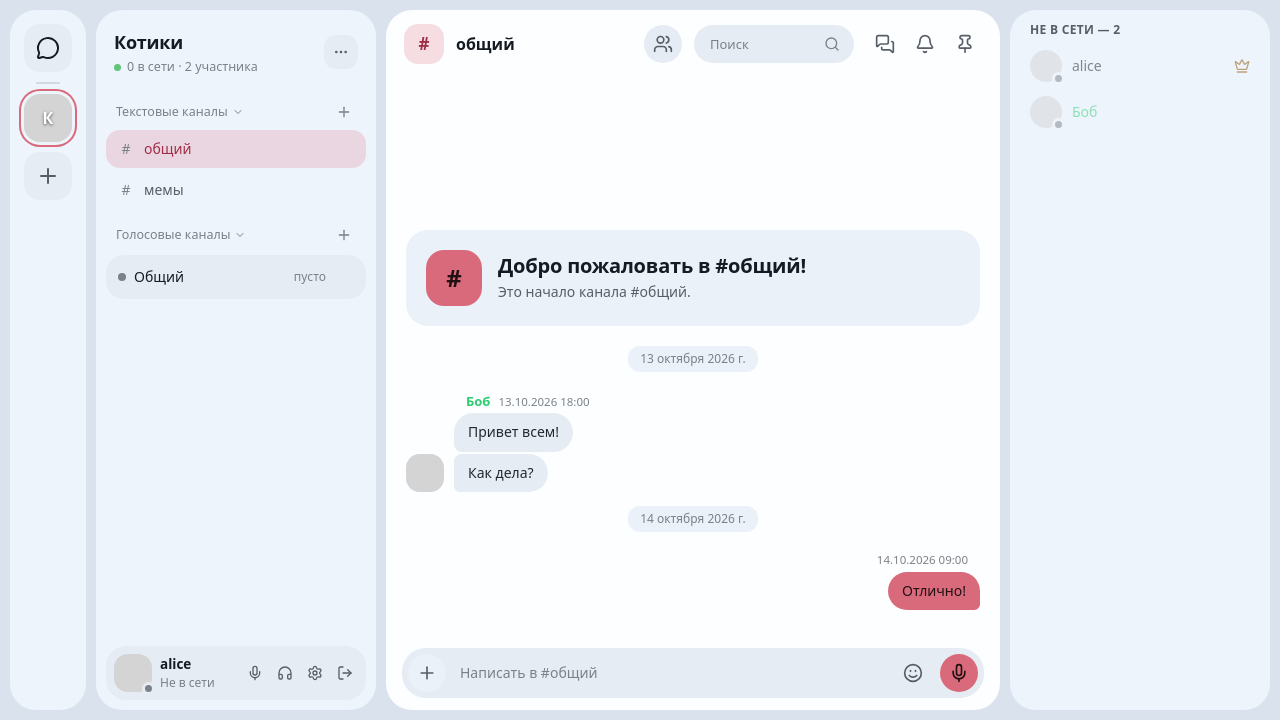
server settings window › opens over the chat from the server menu, keeping the channel
Click the button named "Меню сервера Котики". click: (341, 52)
box: [324, 35, 358, 69]
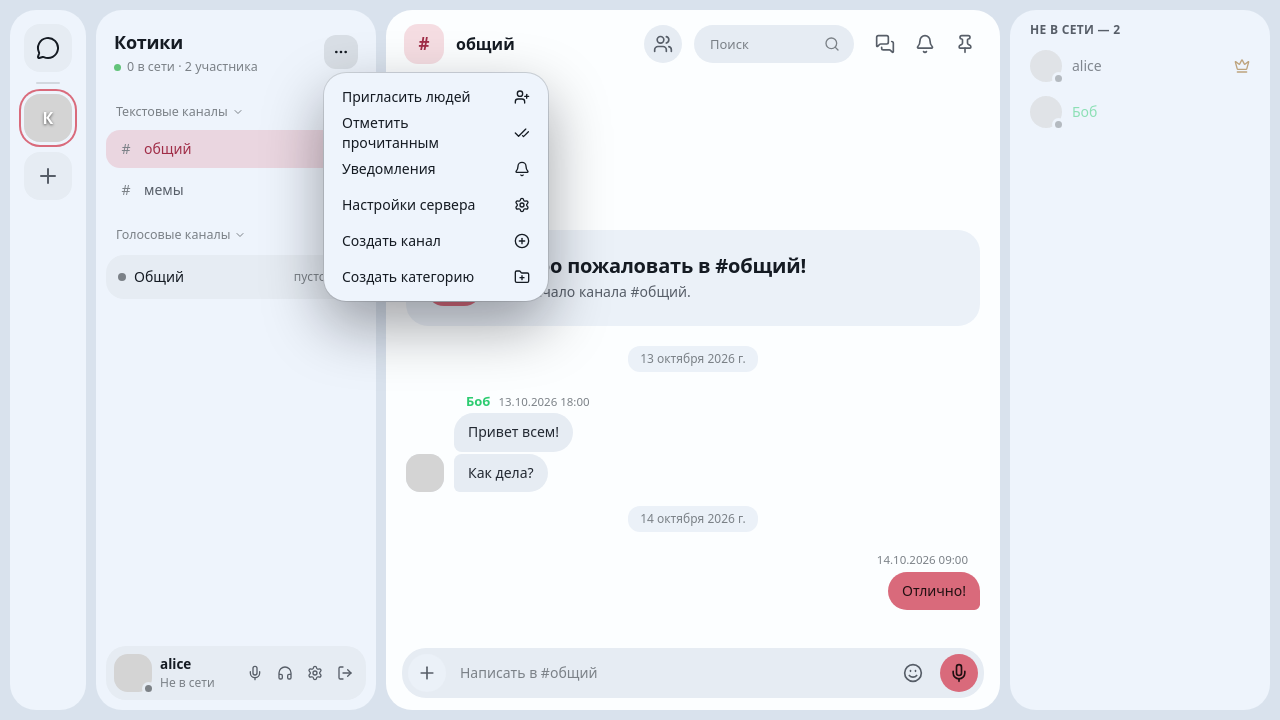
Click the menu item "Настройки сервера". click: (436, 204)
box: [342, 195, 530, 214]
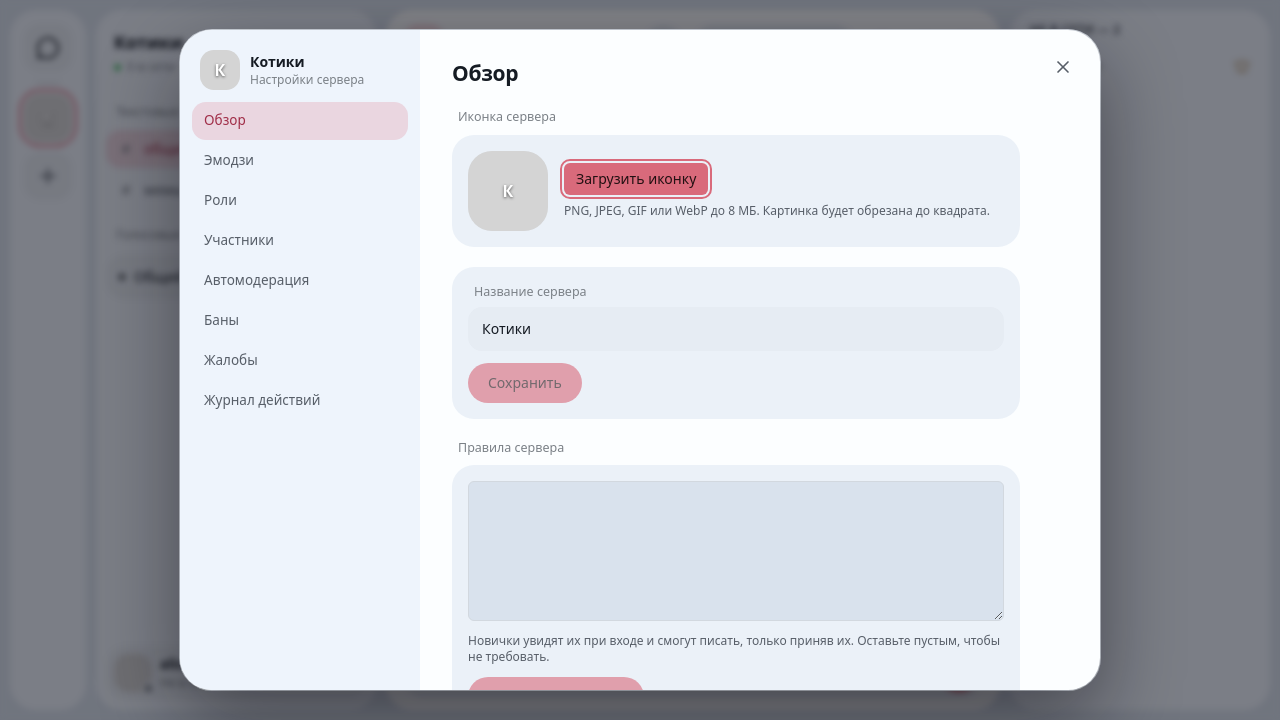
Expected: the list named "Сообщения в #общий" is shown, [386, 346, 1000, 628]
Now the heading "Обзор" is shown, box [452, 59, 518, 87]
Click the link "Роли". click: (220, 200)
box: [204, 191, 237, 209]
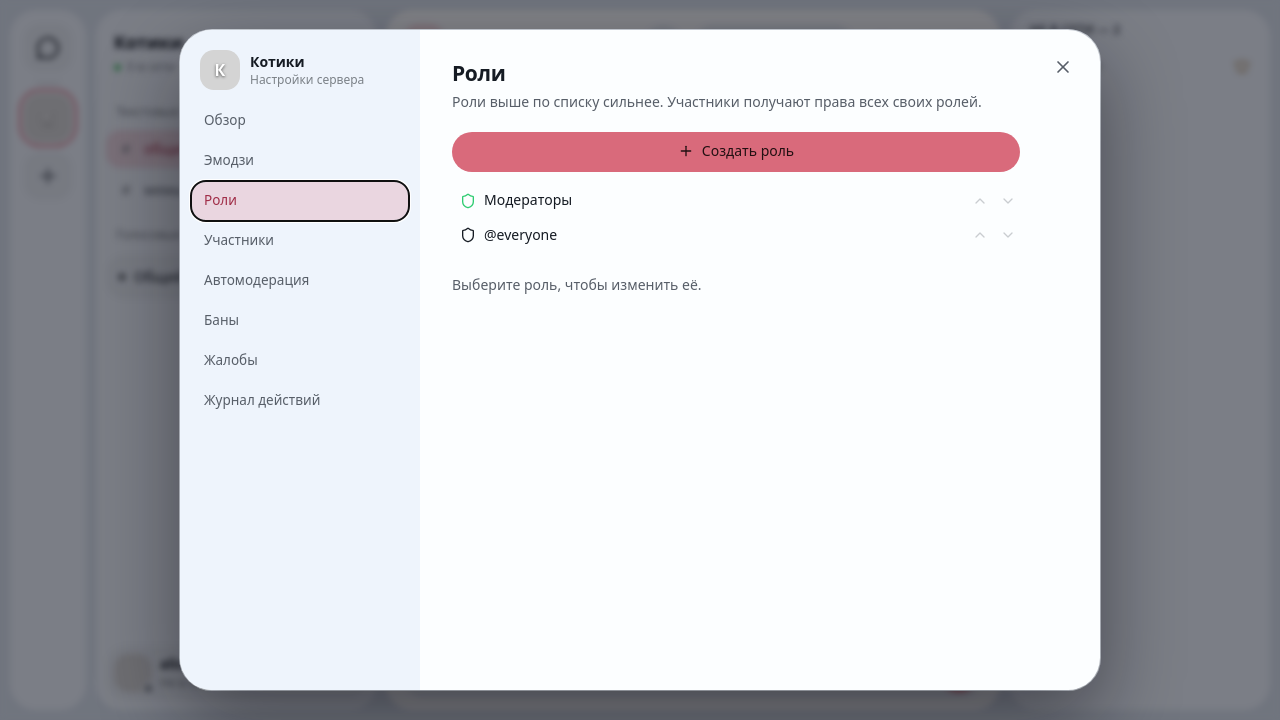
Now the heading "Роли" is shown, box [452, 59, 506, 87]
Press Escape
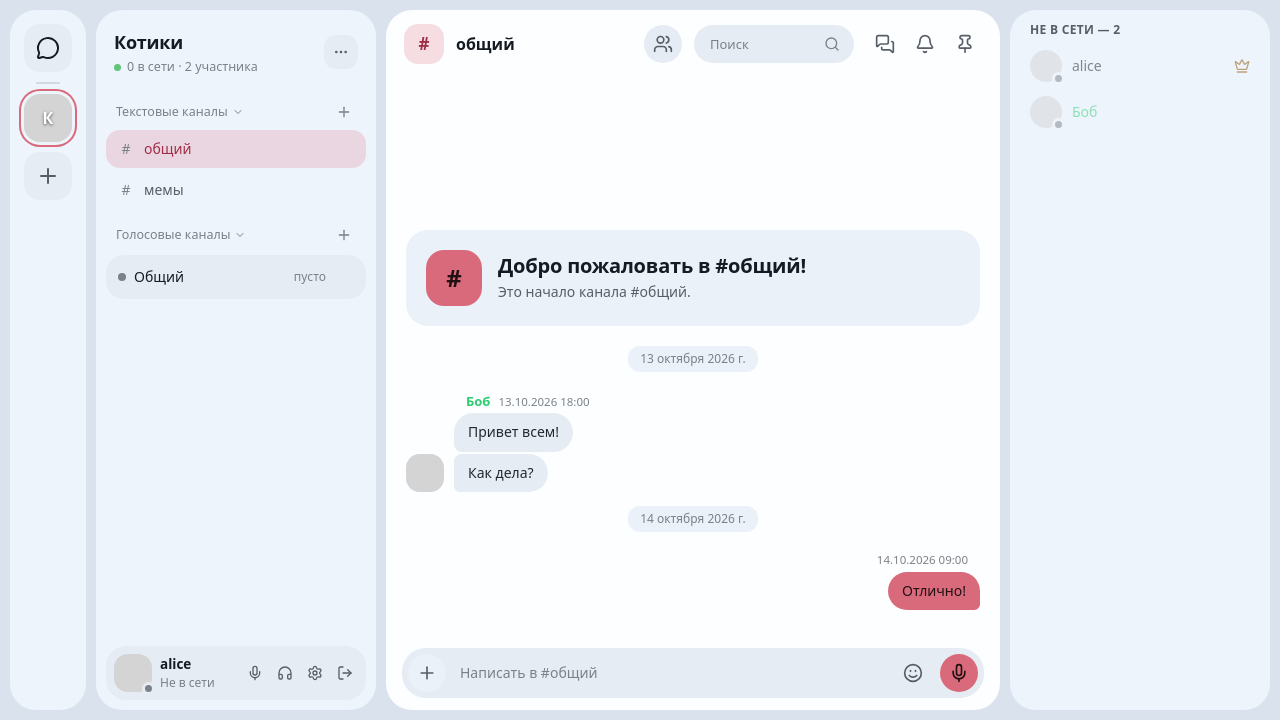
Now the text "Настройки сервера" is gone
